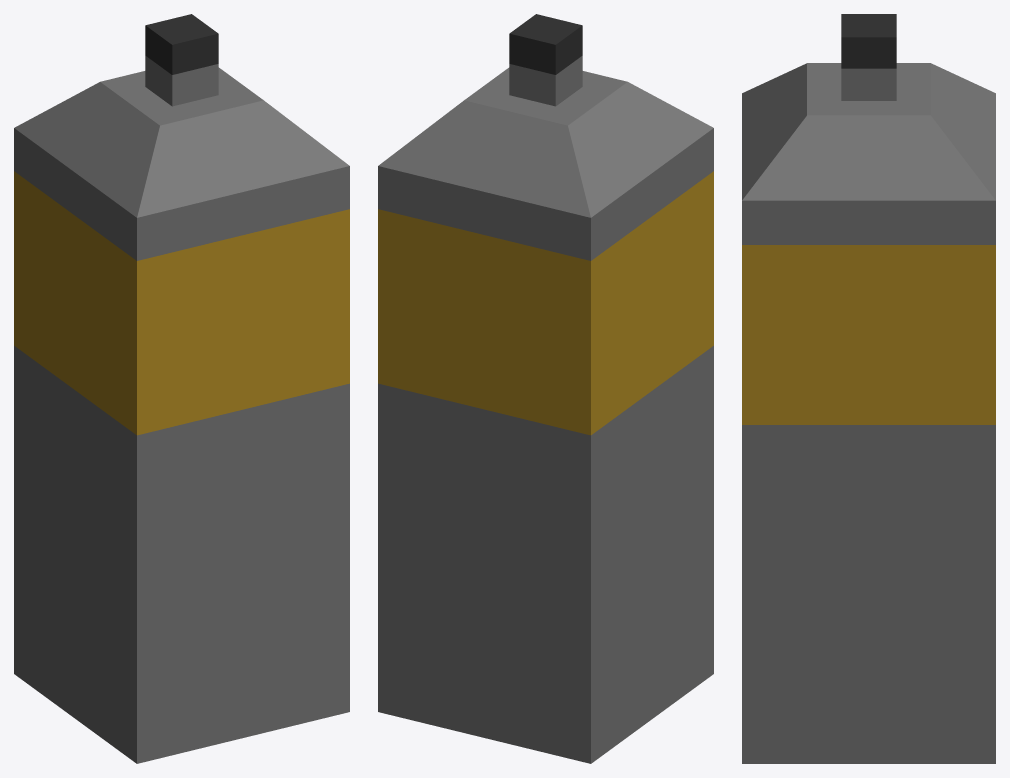
The model's file is Propane_Tank_1.fbx.
3 renders of one model, left to right at view 1: azimuth 30°, elevation 25°; view 2: azimuth 150°, elevation 25°; view 3: azimuth 270°, elevation 25°, orthographic. The views are drawn at different scales.
Visible parts, largest first — view 1: Propane_Tank_1; view 2: Propane_Tank_1; view 3: Propane_Tank_1.
Boxes of the visible parts, <box> form: Propane_Tank_1: <box>14,14,349,763</box>; Propane_Tank_1: <box>378,14,713,763</box>; Propane_Tank_1: <box>742,14,995,763</box>.
Bounding box in the file's own units: 40.37 × 120 × 40.37.
